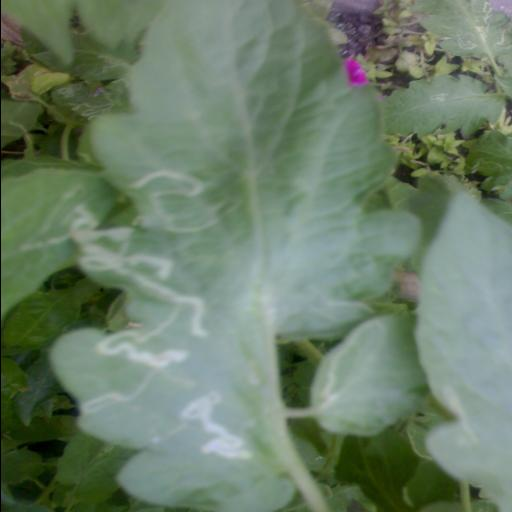disease_tomato: (52, 0, 424, 512)
